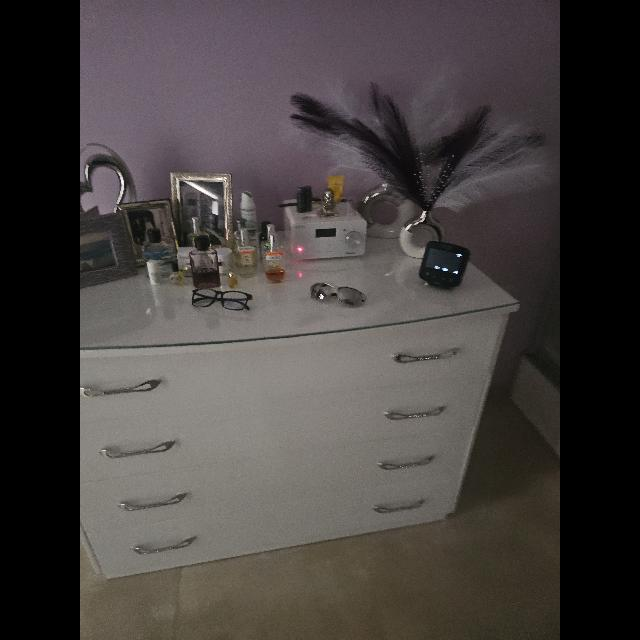Sunglasses: (310, 282, 366, 306)
glasses: (192, 288, 252, 310)
